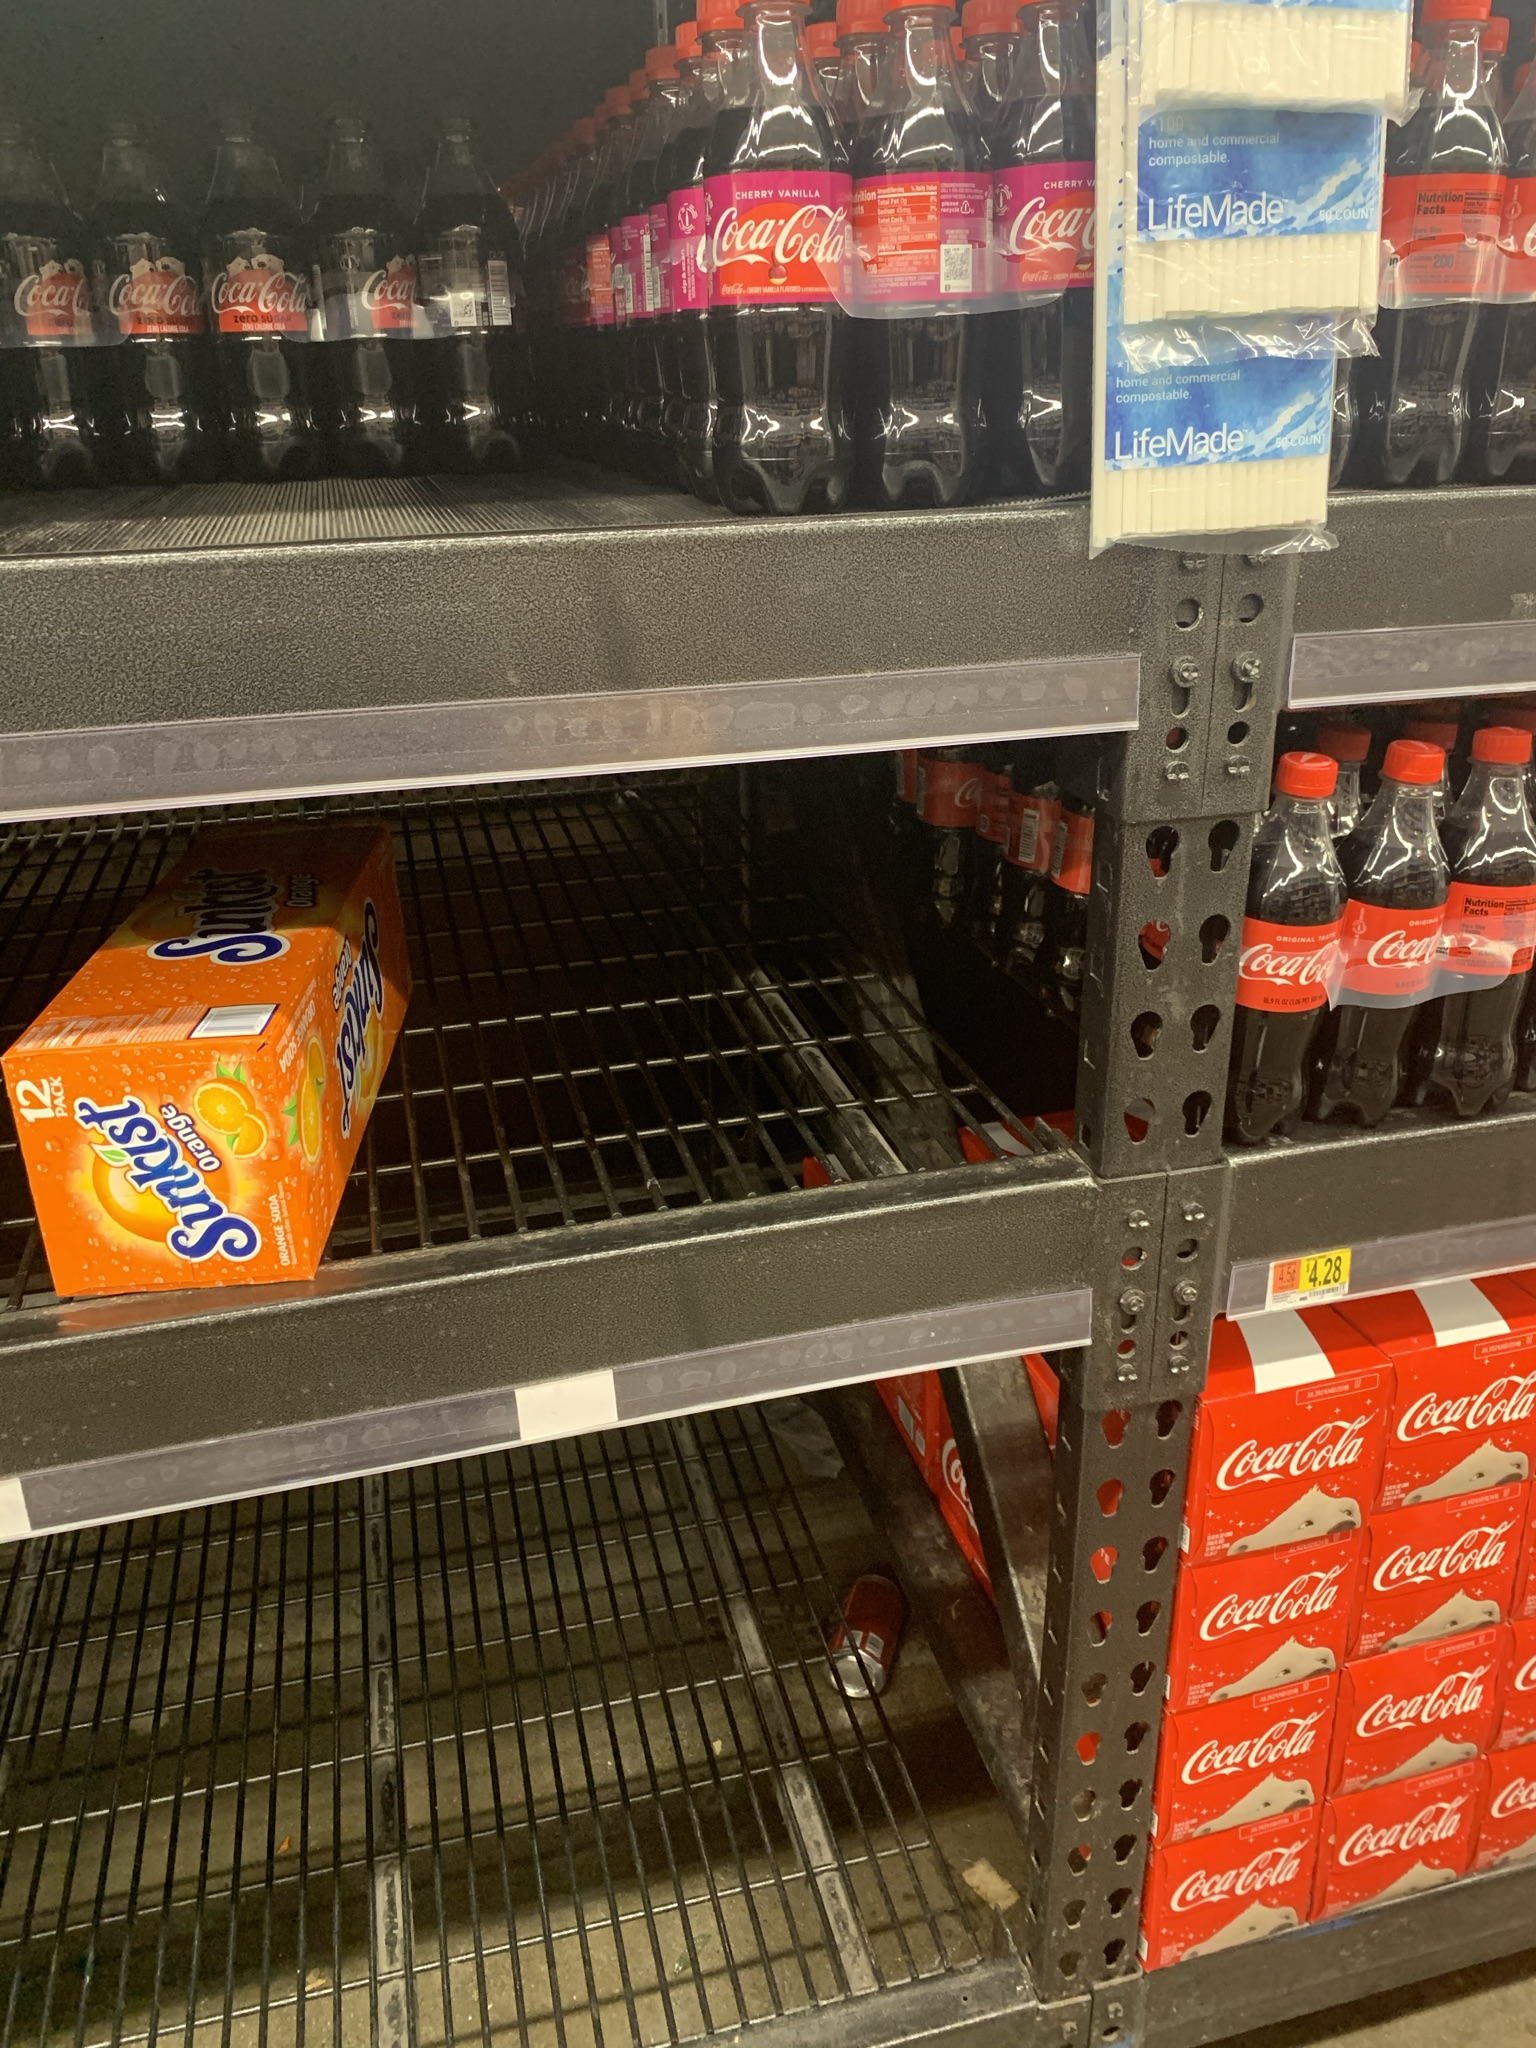box: (50, 1055, 286, 1288), (1213, 1409, 1367, 1526), (1399, 1366, 1526, 1485), (1197, 1579, 1339, 1674), (1163, 1843, 1309, 1934), (1320, 1806, 1473, 1887), (1392, 1526, 1517, 1622), (1184, 1719, 1312, 1809), (1355, 1671, 1483, 1758)
